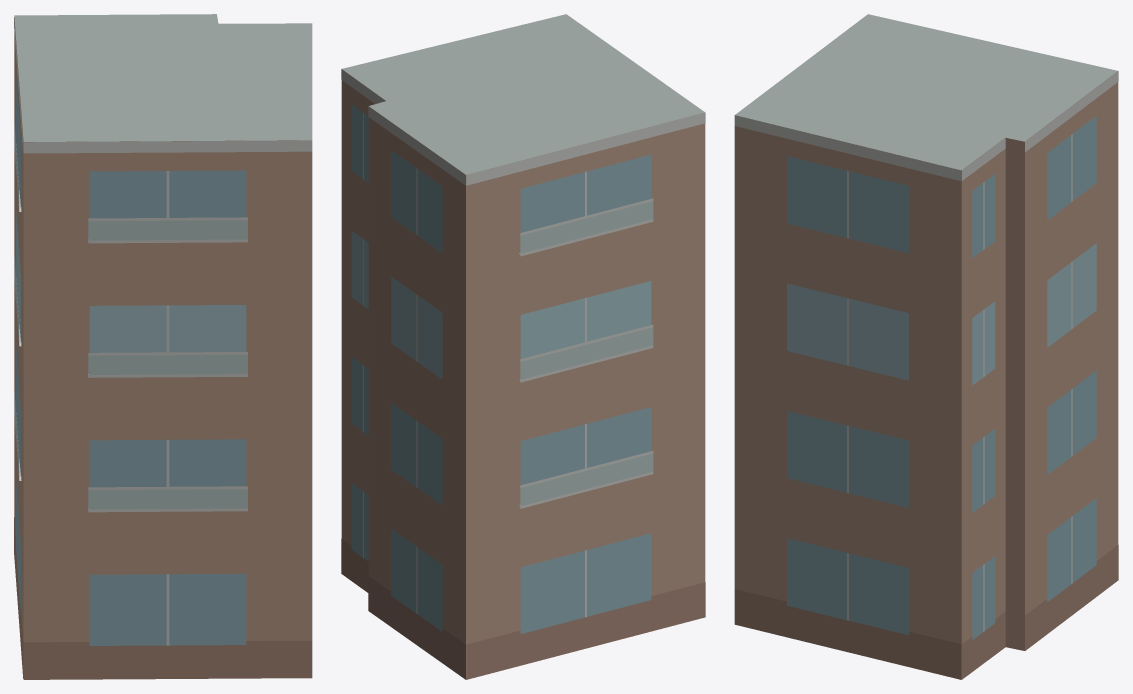
Rendered from survey-upis-32495756.glb.
3 renders of one model, left to right at view 1: azimuth 30°, elevation 25°; view 2: azimuth 150°, elevation 25°; view 3: azimuth 270°, elevation 25°, orthographic. The views are drawn at different scales.
Parts seen in each view (by area): view 1: survey-upis-32495756.tmp; view 2: survey-upis-32495756.tmp; view 3: survey-upis-32495756.tmp.
Boxes of the visible parts, x1,y1,x2,y2 form: survey-upis-32495756.tmp: (14, 14, 312, 679); survey-upis-32495756.tmp: (341, 14, 705, 679); survey-upis-32495756.tmp: (734, 14, 1118, 679).
Bounding box in the file's own units: 7.55 × 11.45 × 7.82.
